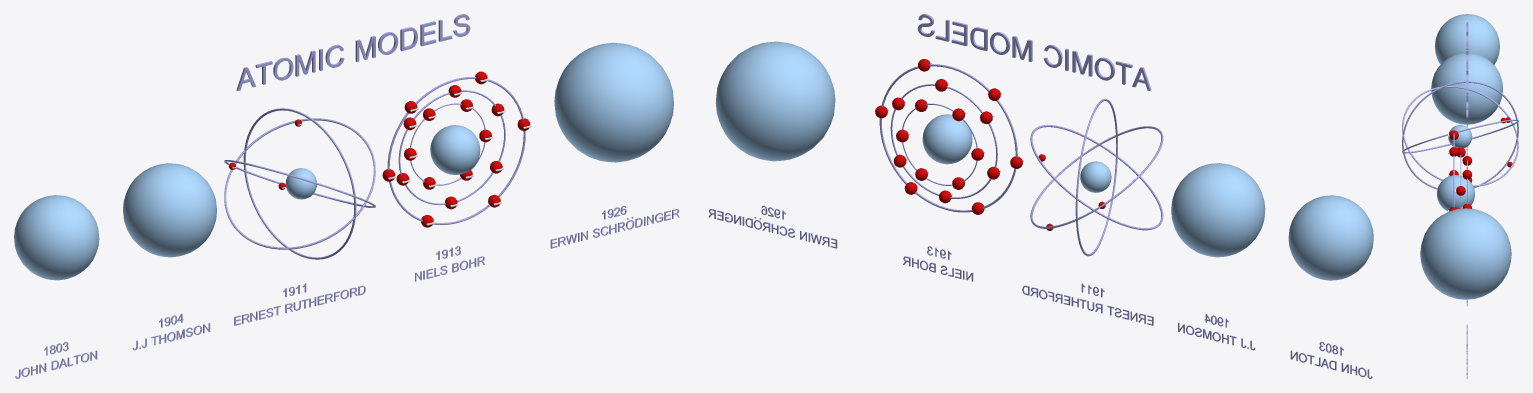
The model's file is atomic_models.glb.
The picture shows the model from 3 angles, left to right: view 1: azimuth 30°, elevation 25°; view 2: azimuth 150°, elevation 25°; view 3: azimuth 270°, elevation 25°; orthographic projection. The views are drawn at different scales.
Visible parts, largest first — view 1: Box120_grey_0, Box072_grey_0, Box001_grey_0, TextPlus001_black_0, Object002_black_0, Box087_grey_0, Cylinder004_black_0, Cylinder002_black_0, Cylinder006_black_0, Box104_grey_0, Cylinder003_black_0, Cylinder005_black_0; view 2: Box120_grey_0, Box072_grey_0, Box001_grey_0, TextPlus001_black_0, Object002_black_0, Box087_grey_0, Cylinder006_black_0, Cylinder004_black_0, Cylinder003_black_0, Cylinder002_black_0, Box104_grey_0, Cylinder005_black_0; view 3: Box120_grey_0, Box072_grey_0, Box001_grey_0, Box087_grey_0, Cylinder002_black_0, Cylinder003_black_0, Cylinder004_black_0, Box104_grey_0, Object002_black_0, TextPlus001_black_0, Cylinder006_black_0.
Part boxes in pixels (x1,y1,x2,y2): Box120_grey_0: (554, 42, 673, 162); Box072_grey_0: (123, 163, 216, 257); Box001_grey_0: (14, 195, 99, 280); TextPlus001_black_0: (15, 205, 679, 378); Object002_black_0: (236, 14, 470, 90); Box087_grey_0: (430, 125, 480, 174); Cylinder004_black_0: (224, 118, 375, 249); Cylinder002_black_0: (243, 108, 356, 259); Cylinder006_black_0: (387, 77, 525, 224); Box104_grey_0: (285, 168, 316, 199); Cylinder003_black_0: (224, 160, 375, 207); Cylinder005_black_0: (398, 90, 505, 205); Box120_grey_0: (715, 41, 835, 161); Box072_grey_0: (1171, 163, 1265, 257); Box001_grey_0: (1288, 195, 1373, 280); TextPlus001_black_0: (708, 205, 1372, 378); Object002_black_0: (917, 14, 1151, 90); Box087_grey_0: (922, 114, 972, 164); Cylinder006_black_0: (879, 64, 1017, 212); Cylinder004_black_0: (1030, 125, 1163, 230); Cylinder003_black_0: (1030, 126, 1163, 228); Cylinder002_black_0: (1075, 98, 1117, 256); Box104_grey_0: (1080, 161, 1111, 192); Cylinder005_black_0: (890, 84, 997, 198); Box120_grey_0: (1420, 208, 1511, 299); Box072_grey_0: (1431, 53, 1502, 124); Box001_grey_0: (1434, 14, 1499, 64); Box087_grey_0: (1437, 175, 1474, 211); Cylinder002_black_0: (1402, 81, 1518, 189); Cylinder003_black_0: (1402, 86, 1518, 186); Cylinder004_black_0: (1402, 119, 1518, 153); Box104_grey_0: (1448, 125, 1472, 148); Object002_black_0: (1466, 22, 1468, 119); TextPlus001_black_0: (1466, 124, 1467, 378); Cylinder006_black_0: (1453, 133, 1454, 207).
Bounding box in the file's own units: 19.93 × 7.33 × 3.98.
